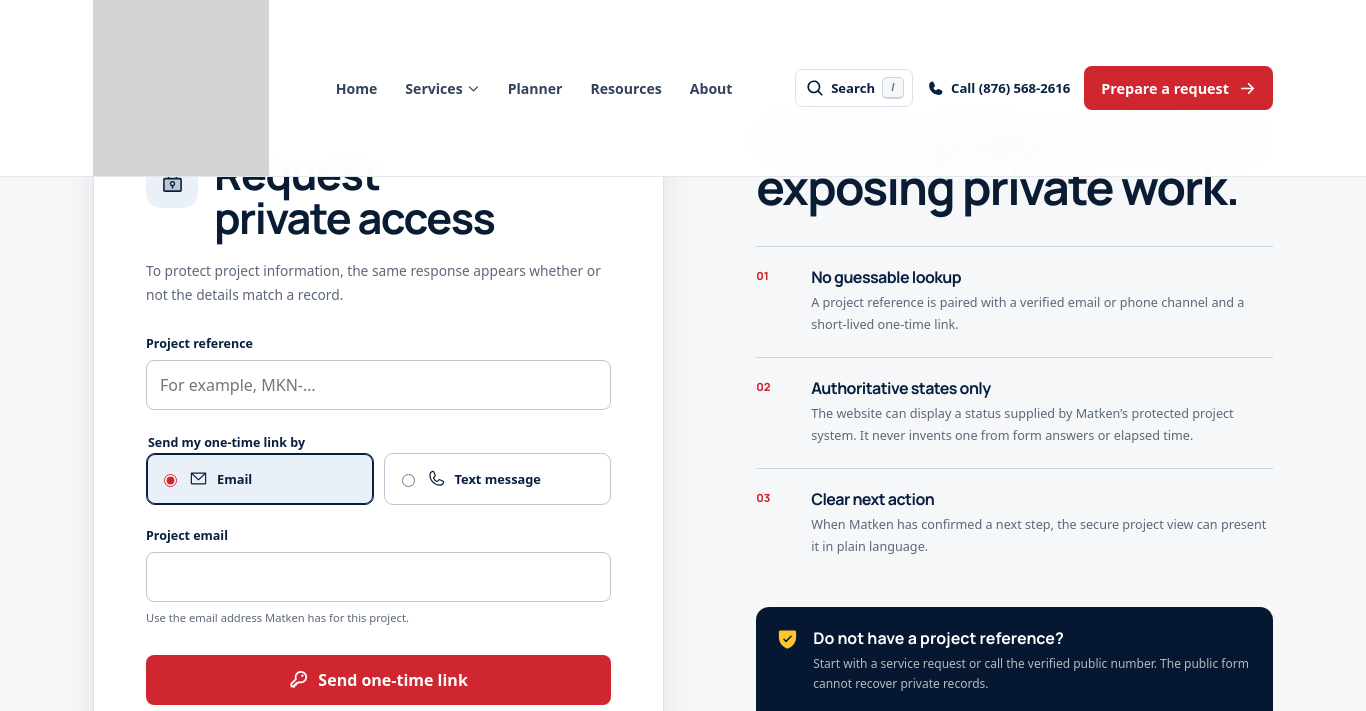
Test: secure project-status tracker › fails closed in prototype mode without performing a lookup
(page scrolled)
In the field labelled "Project reference": (379, 385) [146,360,611,410], type "MKN-PROJ-101"
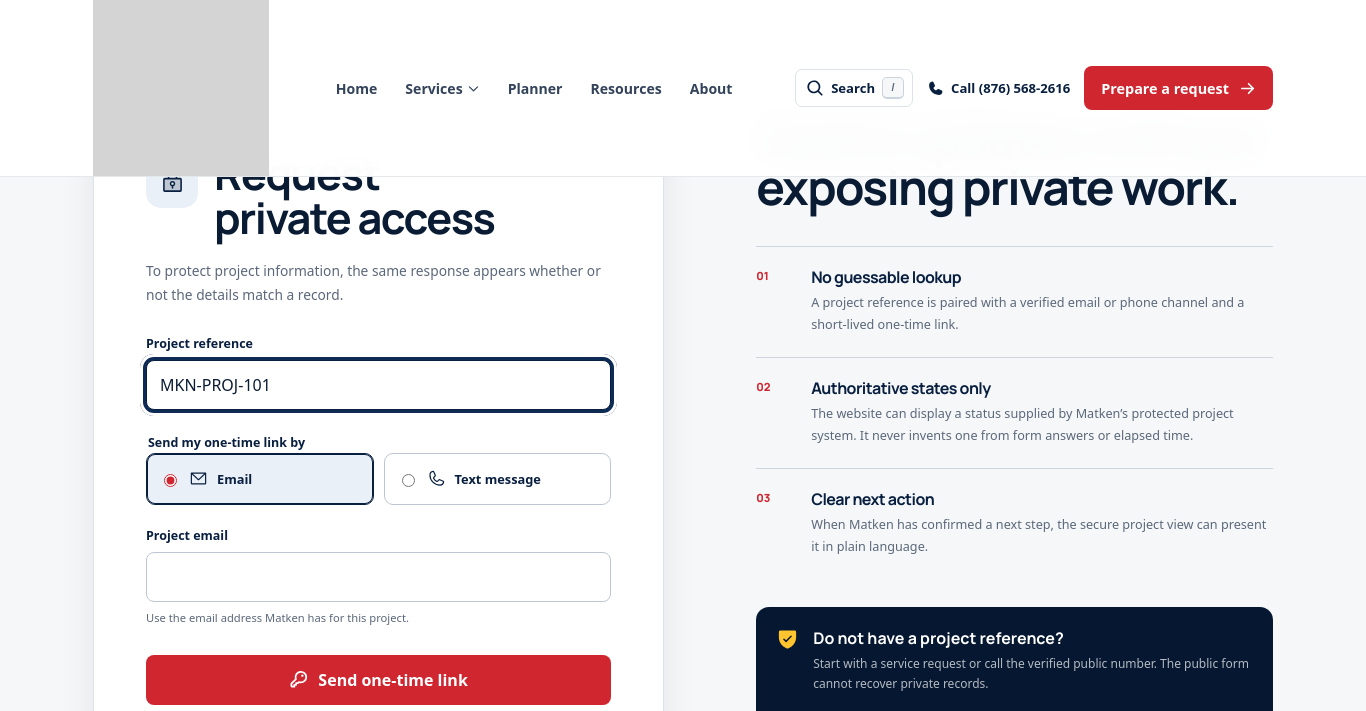
In the field labelled "Project email": (379, 577) [146,552,611,602], type "customer@example.com"
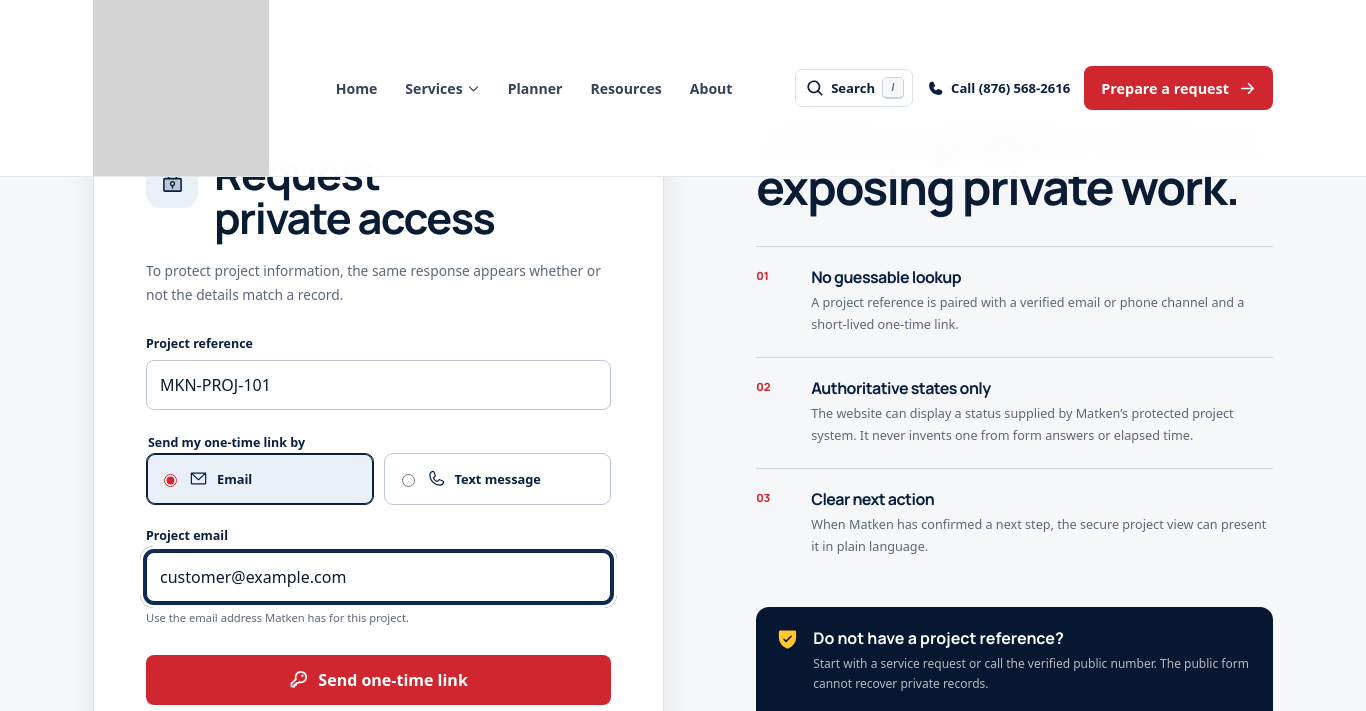
Click the button "Send one-time link": (379, 680) [146,654,611,704]
(page scrolled)
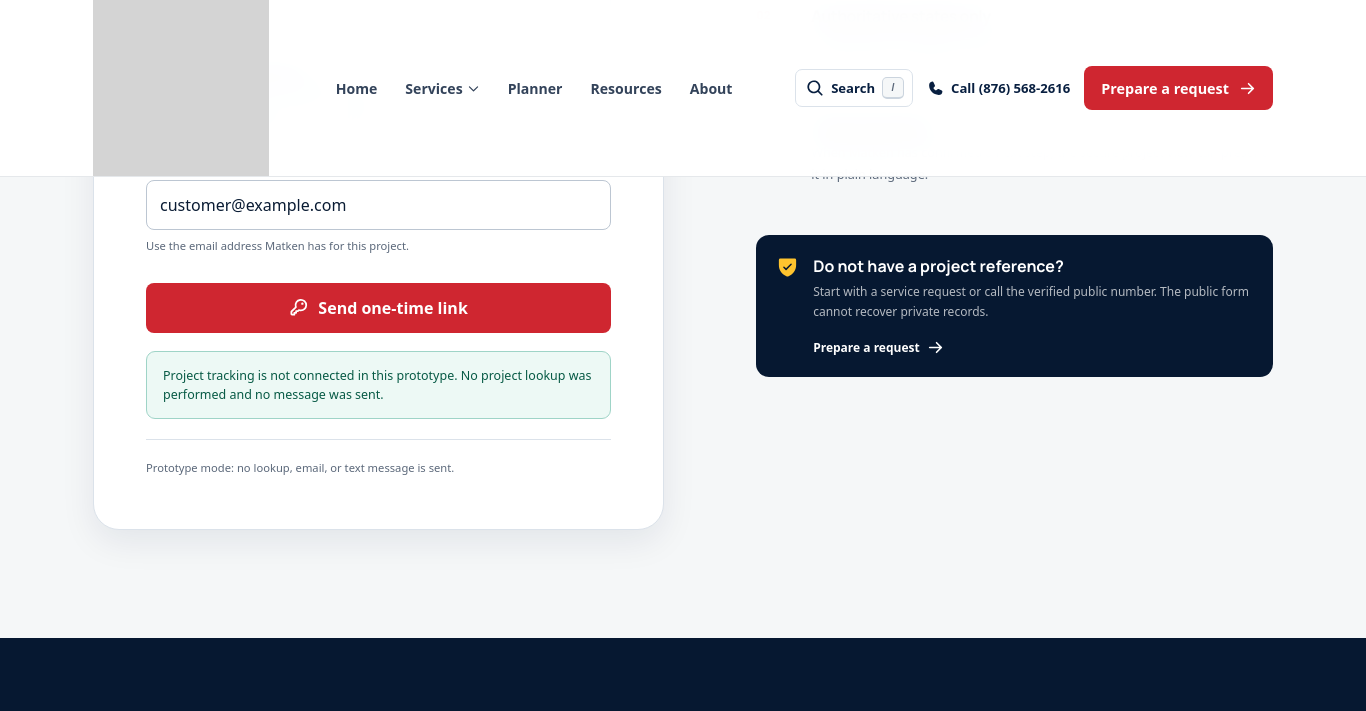
expect the text "No project lookup was performed" is shown: met, box [163,366,592,403]
